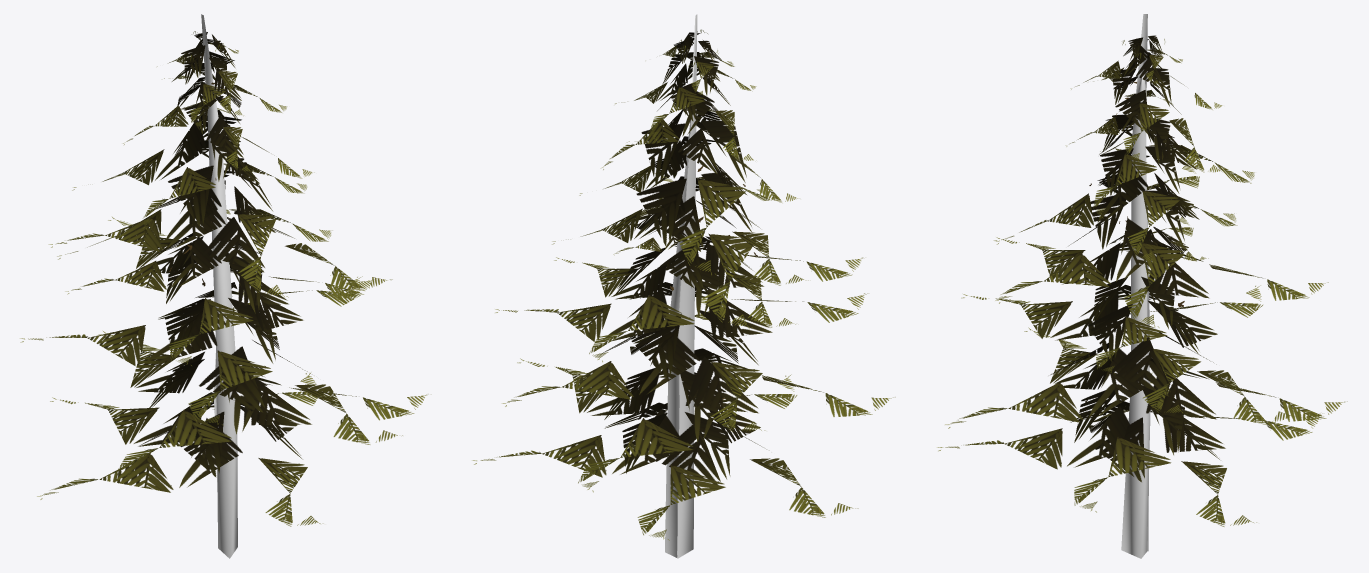
File: sapin_feuilles_l1.glb
3 renders of one model, left to right at view 1: azimuth 30°, elevation 25°; view 2: azimuth 150°, elevation 25°; view 3: azimuth 270°, elevation 25°, orthographic. The views are drawn at different scales.
Visible parts, largest first — view 1: Leaves/001, Trank.001; view 2: Leaves/001, Trank.001; view 3: Leaves/001, Trank.001.
Boxes of the visible parts, x1,y1,x2,y2 form: Leaves/001: [20, 31, 426, 526]; Trank.001: [201, 14, 237, 558]; Leaves/001: [472, 29, 895, 540]; Trank.001: [665, 14, 697, 558]; Leaves/001: [937, 35, 1347, 526]; Trank.001: [1121, 14, 1150, 558].
Size of the model in its own units: 217 by 299 by 217.
2 materials, 1 textured.
